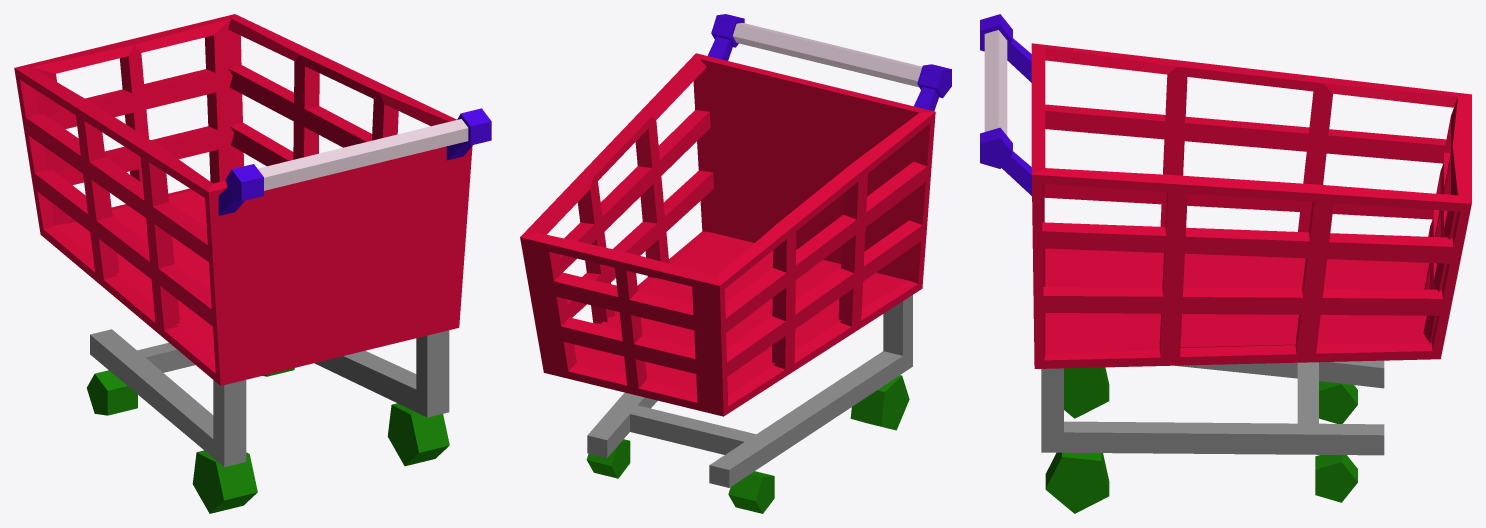
The model's file is carritoTuning.fbx.
3 renders of one model, left to right at view 1: azimuth 30°, elevation 25°; view 2: azimuth 150°, elevation 25°; view 3: azimuth 270°, elevation 25°, orthographic. The views are drawn at different scales.
Parts seen in each view (by area): view 1: CarroBueno; view 2: CarroBueno; view 3: CarroBueno.
Part boxes in pixels (<box>): CarroBueno: <box>14,14,491,513</box>; CarroBueno: <box>520,14,951,513</box>; CarroBueno: <box>980,14,1471,513</box>.
Size of the model in its own units: 68.65 by 92.8 by 109.
